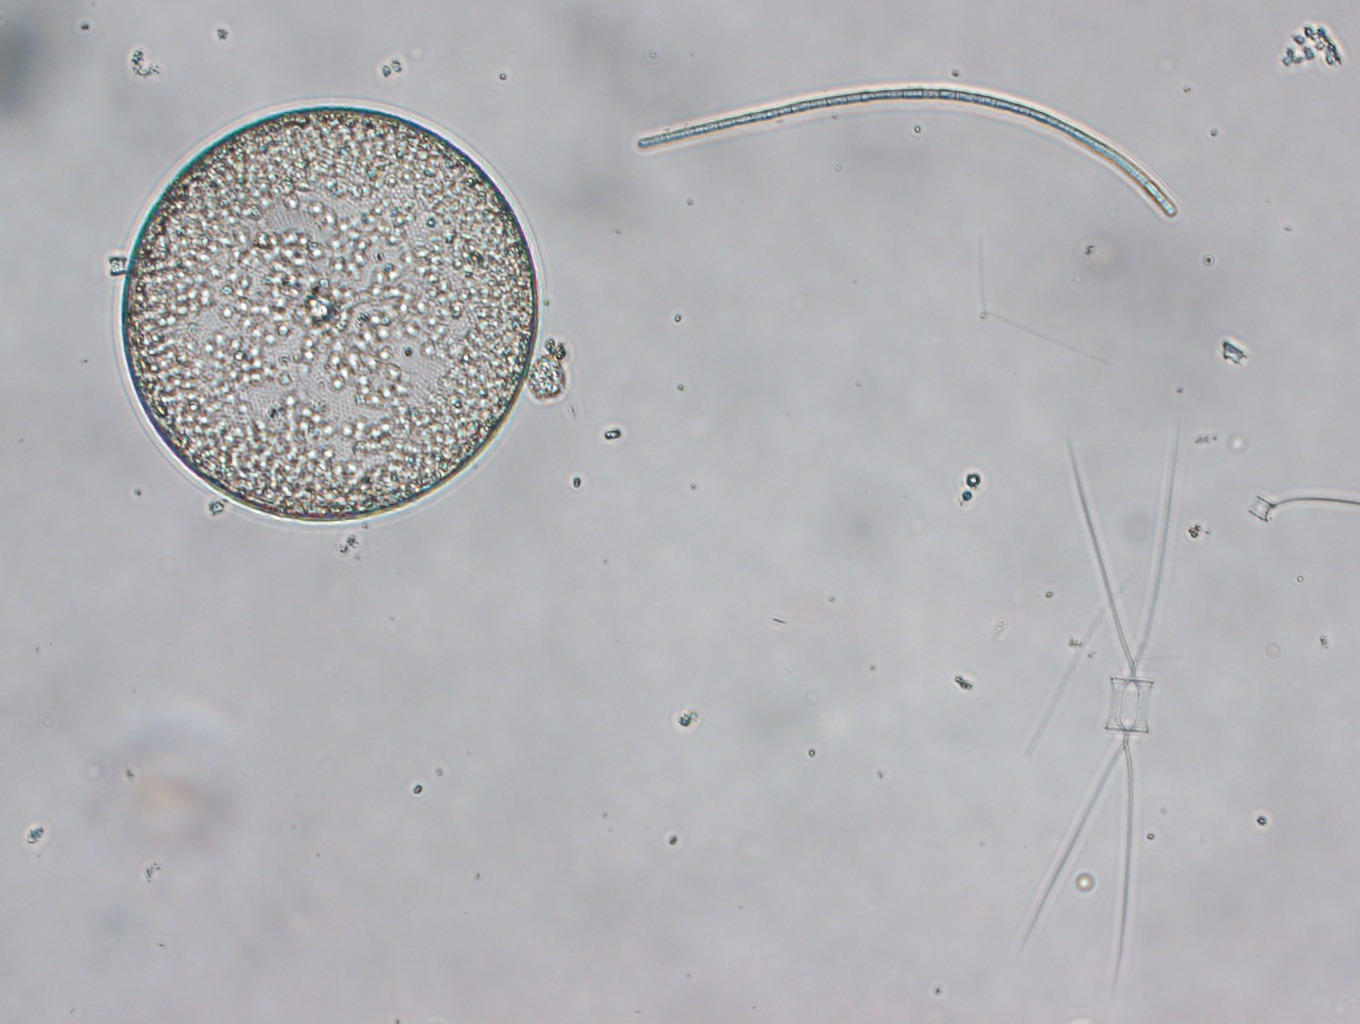chaetoceros: (1014, 435, 1177, 995)
coscinodiscus: (120, 103, 539, 525)
